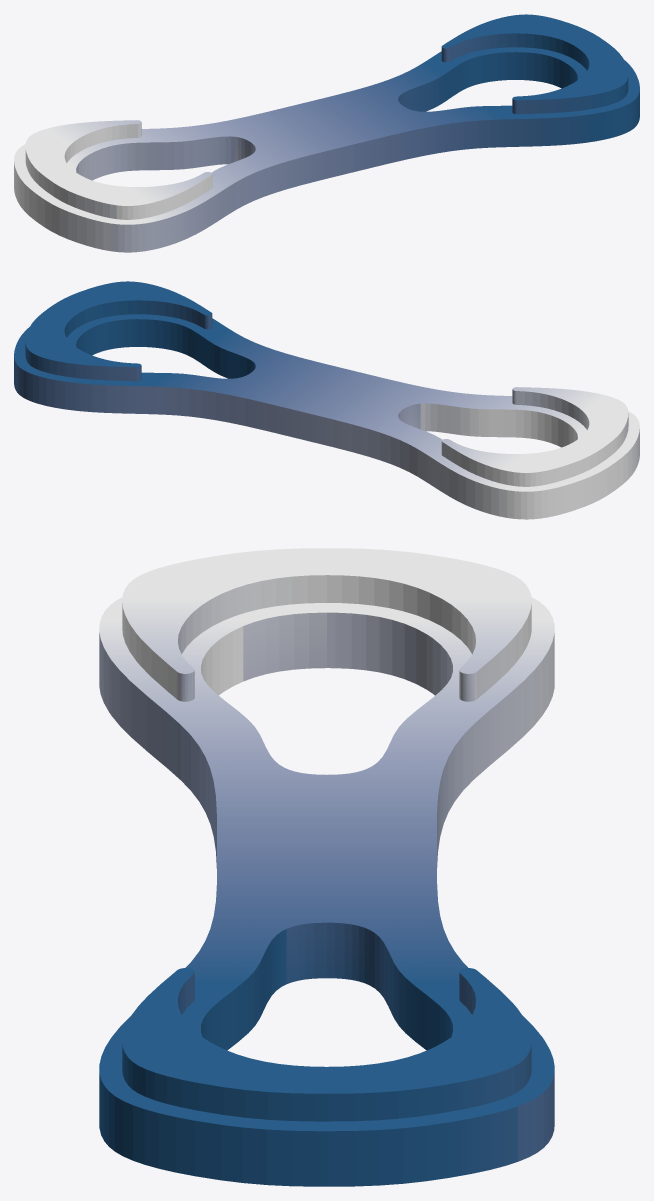
3 views of the same model, one above another, from view 1: azimuth 30°, elevation 25°; view 2: azimuth 150°, elevation 25°; view 3: azimuth 270°, elevation 25° (orthographic). The views are drawn at different scales.
Parts seen in each view (by area): view 1: Q16a; view 2: Q16a; view 3: Q16a.
Boxes of the visible parts, left/top/right/bottom form: Q16a: left=14, top=14, right=639, bottom=252; Q16a: left=14, top=281, right=639, bottom=519; Q16a: left=99, top=548, right=554, bottom=1186.
Size of the model in its own units: 222 by 15.24 by 75.53.
1 material, 1 textured.
